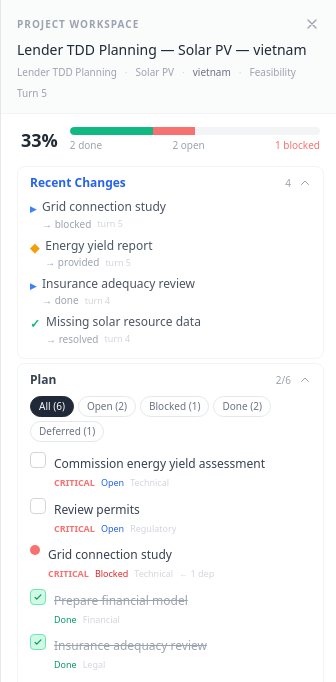
Test: ProjectWorkspace — interactions › does not show mark-done buttons for done/blocked items
Note: Click "Done" filter to see only done items
Click the button with test id "plan-filter-done" at (242, 407), box left=213, top=396, right=271, bottom=417
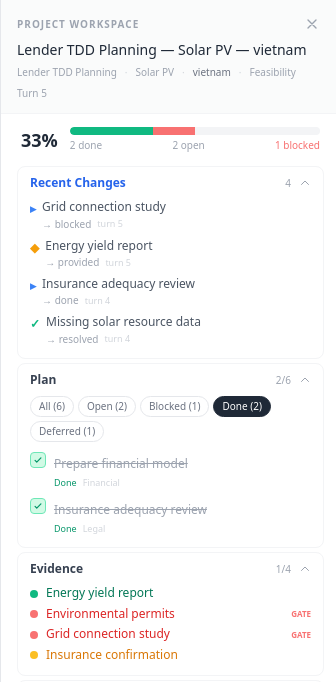
Result: no buttons with test id "ws-mark-done-btn" are shown
